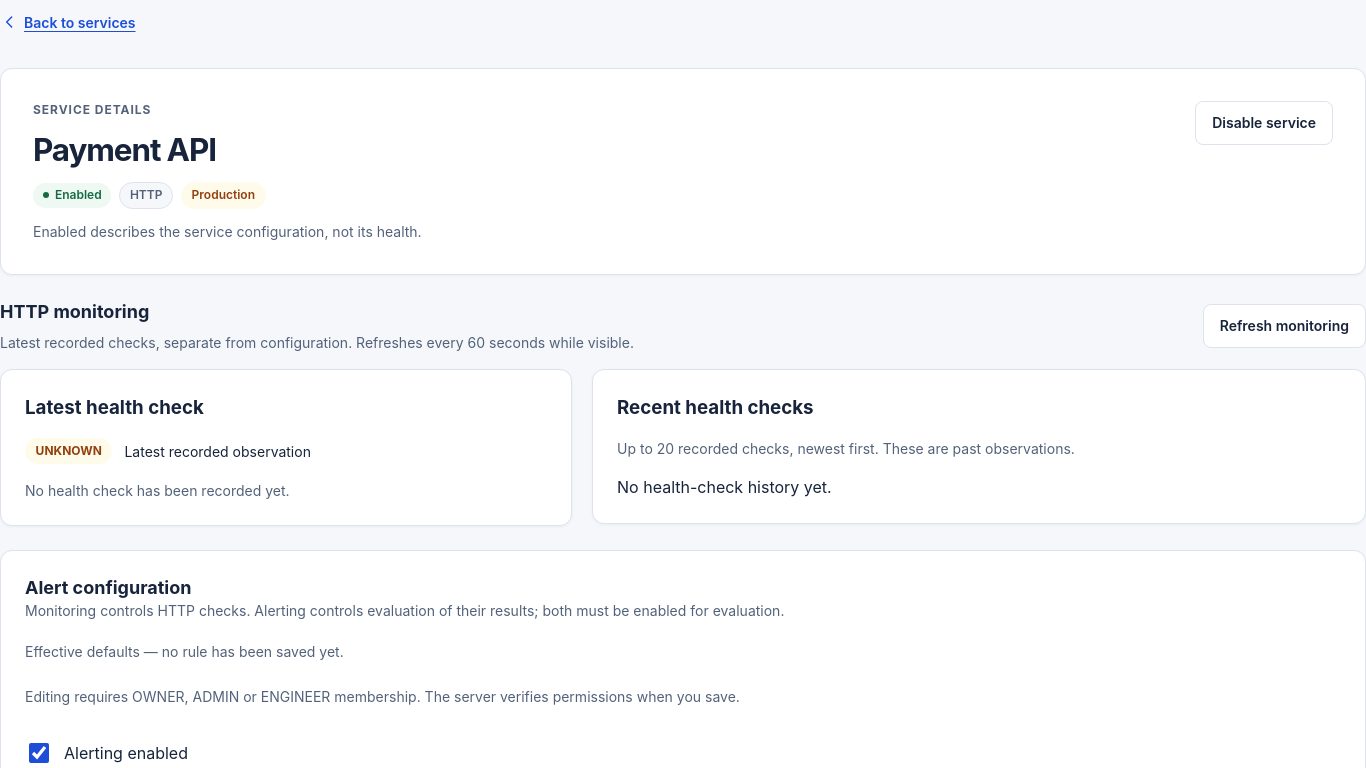
Test: button cancels confirmation without mutating and returns focus
Click the button "Disable service": (1264, 123) [1195,101,1333,145]
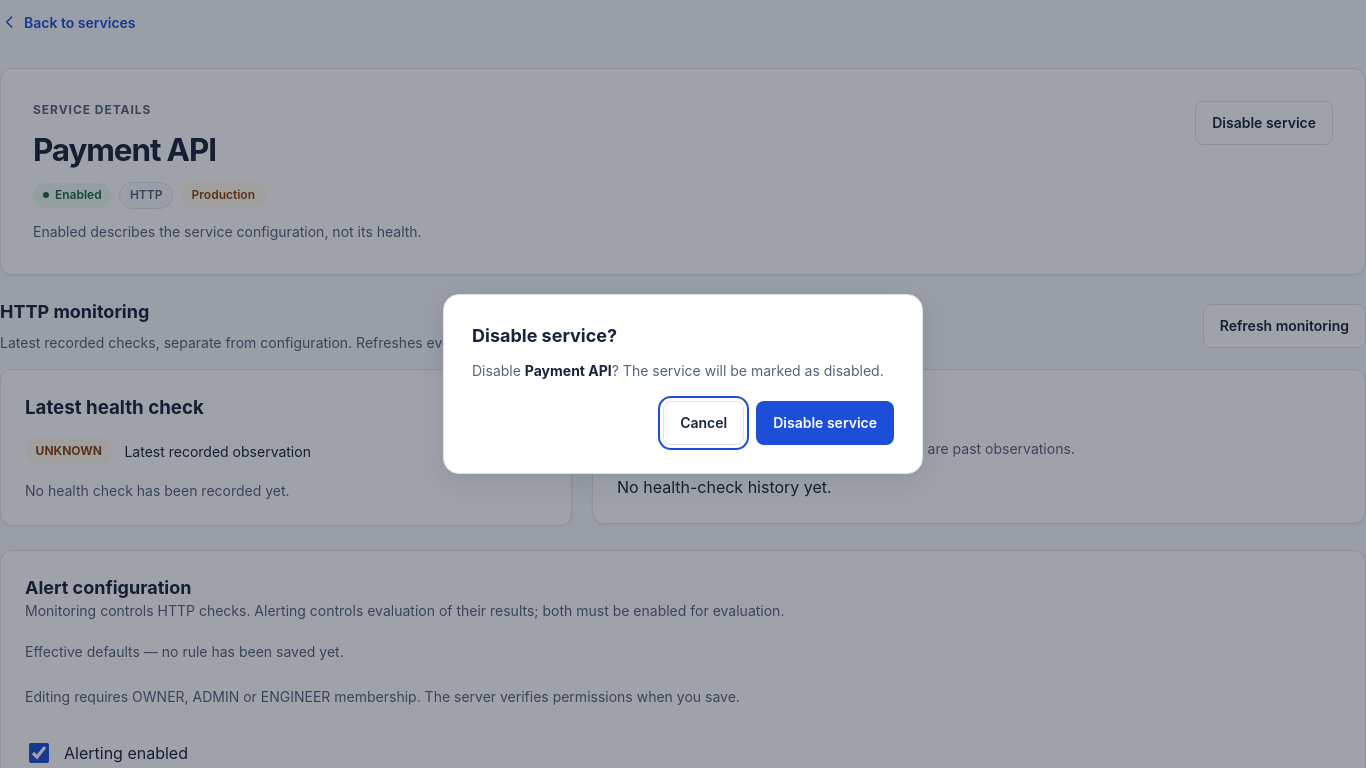
Click the button "Cancel": (704, 423) [663,401,744,445]
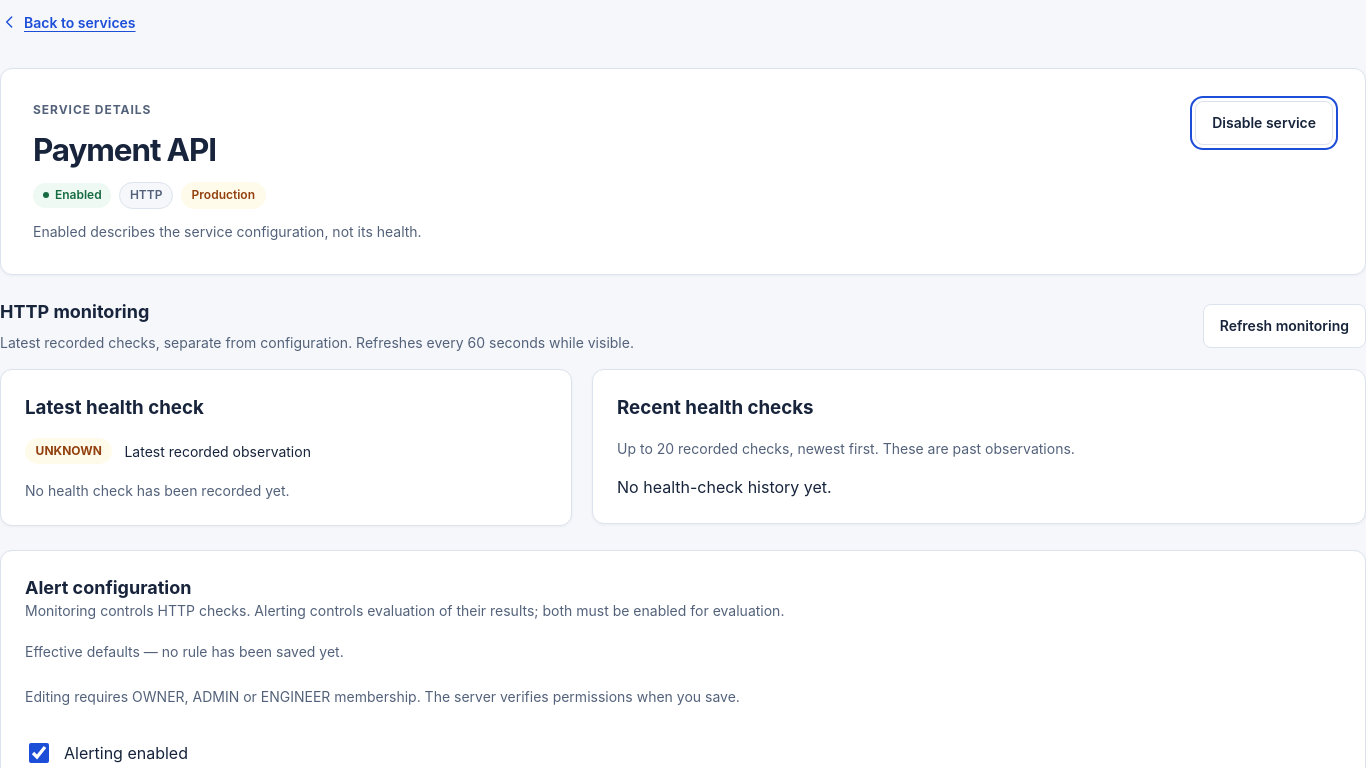
Expected: the dialog is gone
